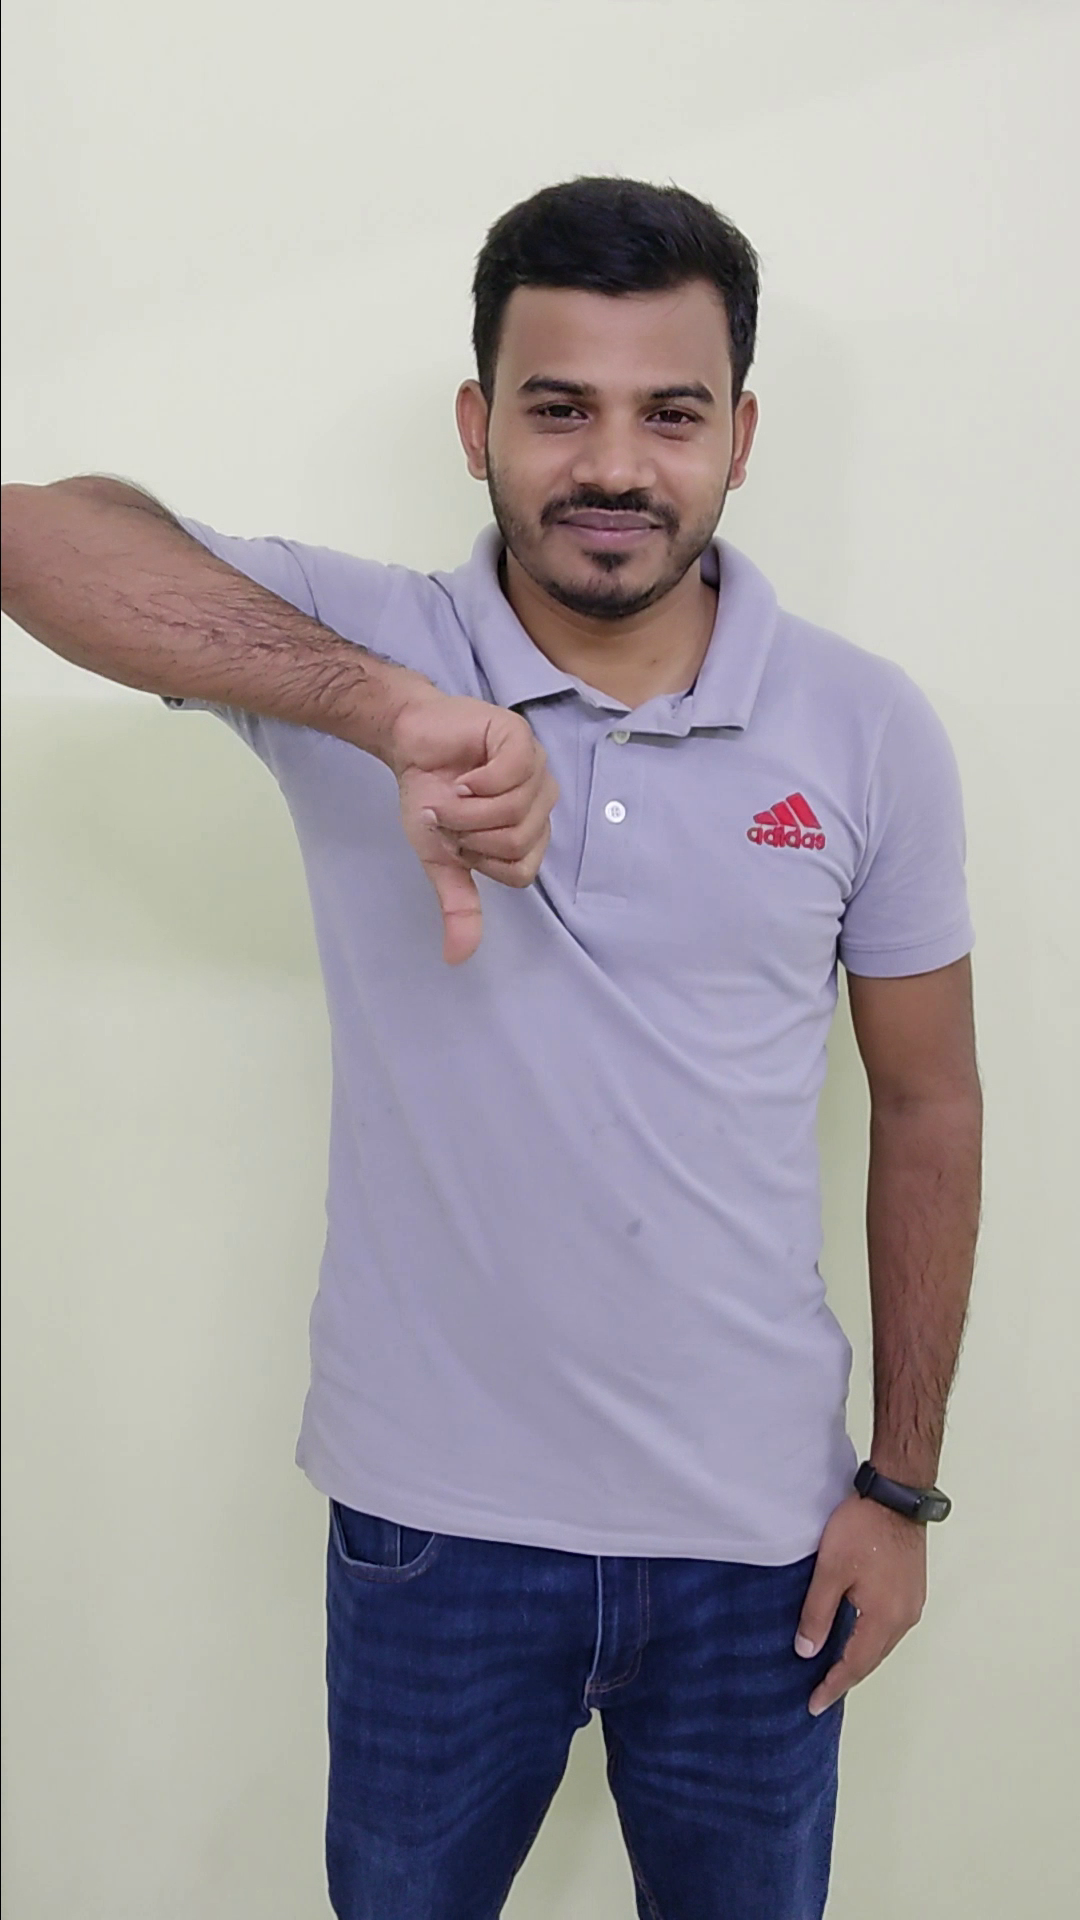Dislike: (371, 669, 564, 978)
None: (787, 1447, 959, 1729)
